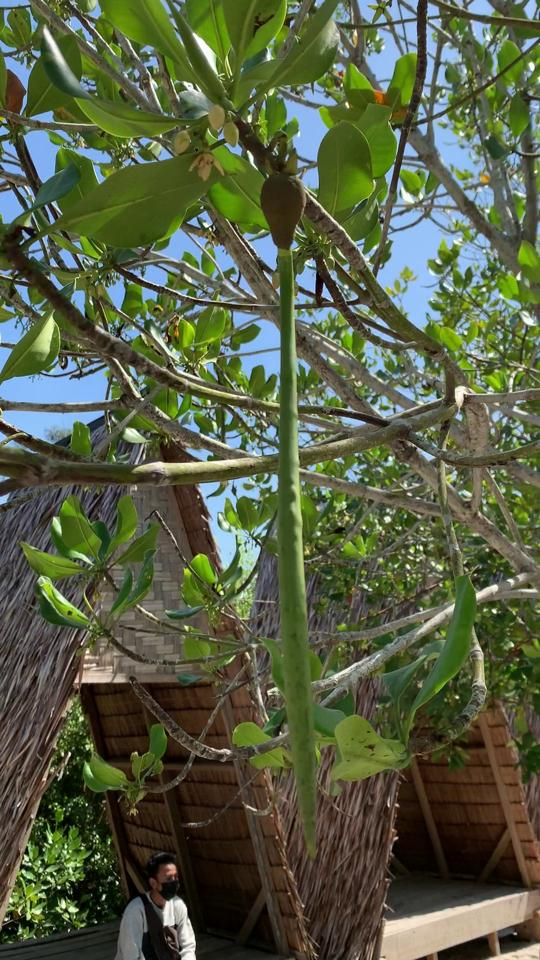setengah matang: (249, 141, 334, 863)
